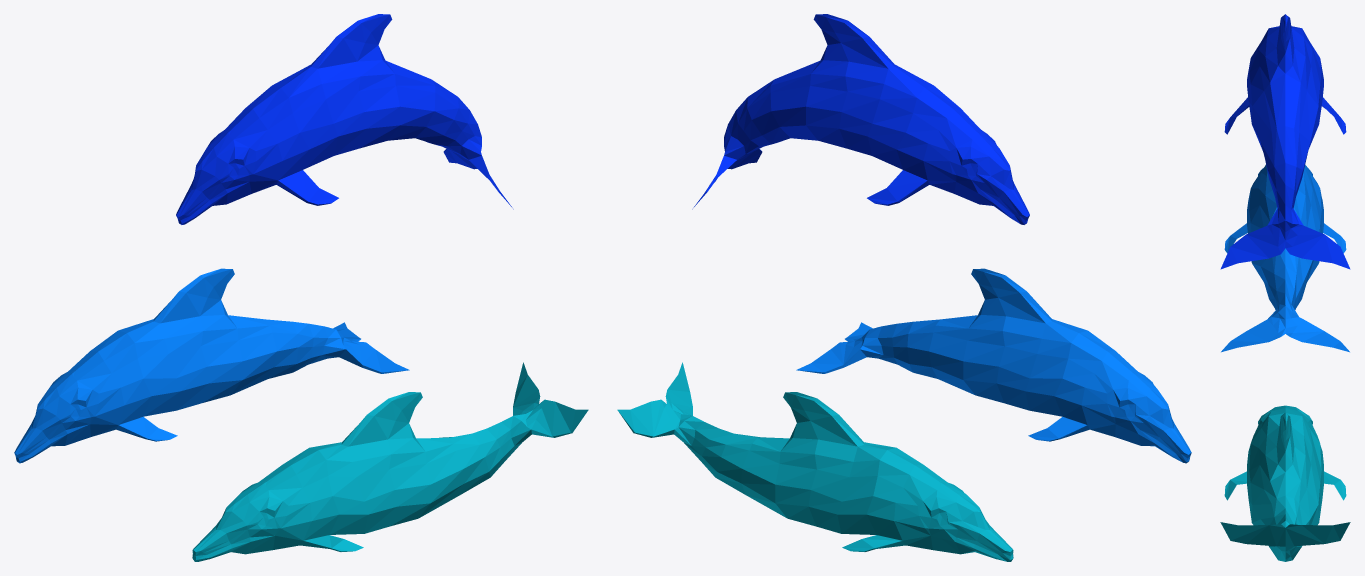
The model's file is dolphins.obj.
The picture shows the model from 3 angles, left to right: view 1: azimuth 30°, elevation 25°; view 2: azimuth 150°, elevation 25°; view 3: azimuth 270°, elevation 25°; orthographic projection.
Parts seen in each view (by area): view 1: dolph03, dolph02, dolph01; view 2: dolph03, dolph02, dolph01; view 3: dolph01, dolph03, dolph02.
Boxes of the visible parts, box(x1,y1,x2,y2) form: dolph03: box(192, 362, 588, 561); dolph02: box(14, 268, 409, 463); dolph01: box(176, 14, 513, 224); dolph03: box(617, 362, 1013, 561); dolph02: box(796, 268, 1191, 463); dolph01: box(692, 14, 1029, 224); dolph01: box(1220, 14, 1350, 269); dolph03: box(1220, 405, 1350, 561); dolph02: box(1221, 165, 1349, 352).
Size of the model in its own units: 854 by 772 by 179.
